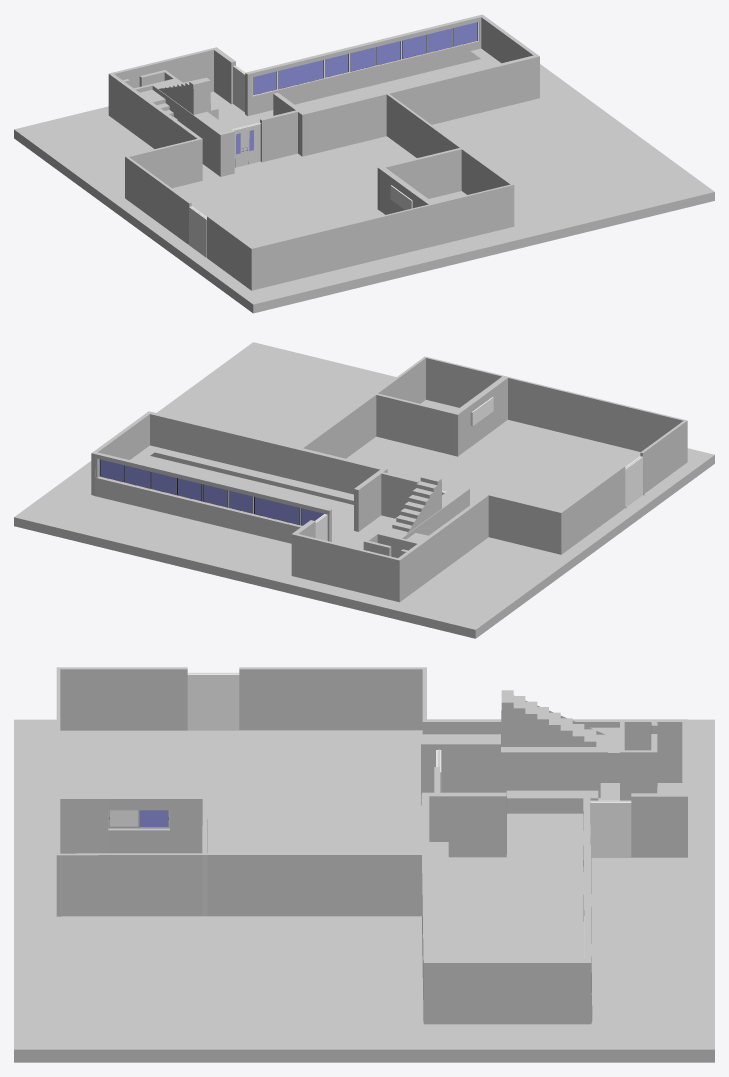
The picture shows the model from 3 angles, top to bottom: view 1: azimuth 30°, elevation 25°; view 2: azimuth 150°, elevation 25°; view 3: azimuth 270°, elevation 25°; orthographic projection. The views are drawn at different scales.
Parts seen in each view (by area): view 1: Plan, Window.002, Cube, CTRL_Hole.001, Door.001, CTRL_Hole.002; view 2: Plan, Window.002, Cube, CTRL_Hole.001; view 3: Plan, Cube, CTRL_Hole.001, CTRL_Hole.002.
Boxes of the visible parts, x1,y1,x2,y2 form: Plan: (14, 14, 714, 313); Window.002: (252, 22, 479, 96); Cube: (158, 77, 210, 114); CTRL_Hole.001: (189, 206, 206, 257); Door.001: (245, 125, 258, 165); CTRL_Hole.002: (233, 65, 245, 112); Plan: (14, 342, 714, 638); Window.002: (99, 459, 324, 526); Cube: (392, 474, 441, 533); CTRL_Hole.001: (625, 456, 642, 507); Plan: (14, 667, 714, 1062); Cube: (501, 690, 619, 752); CTRL_Hole.001: (187, 672, 239, 730); CTRL_Hole.002: (590, 800, 631, 857).
Size of the model in its own units: 3468 by 589 by 3113.
